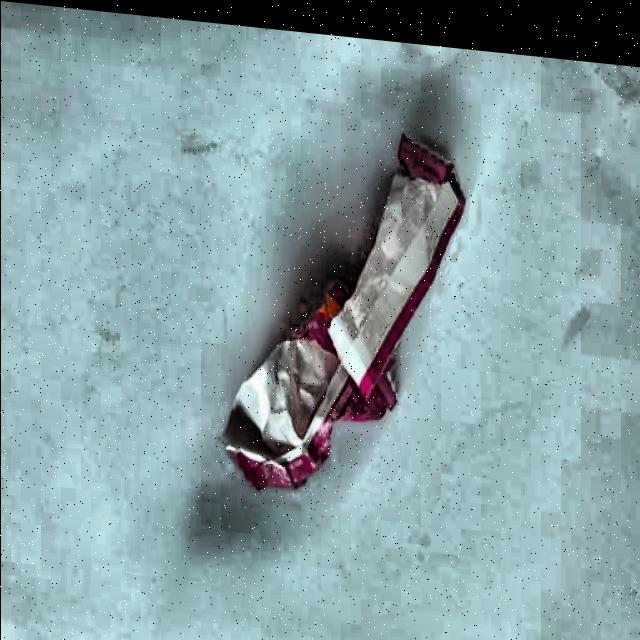plastic: (217, 111, 468, 515)
